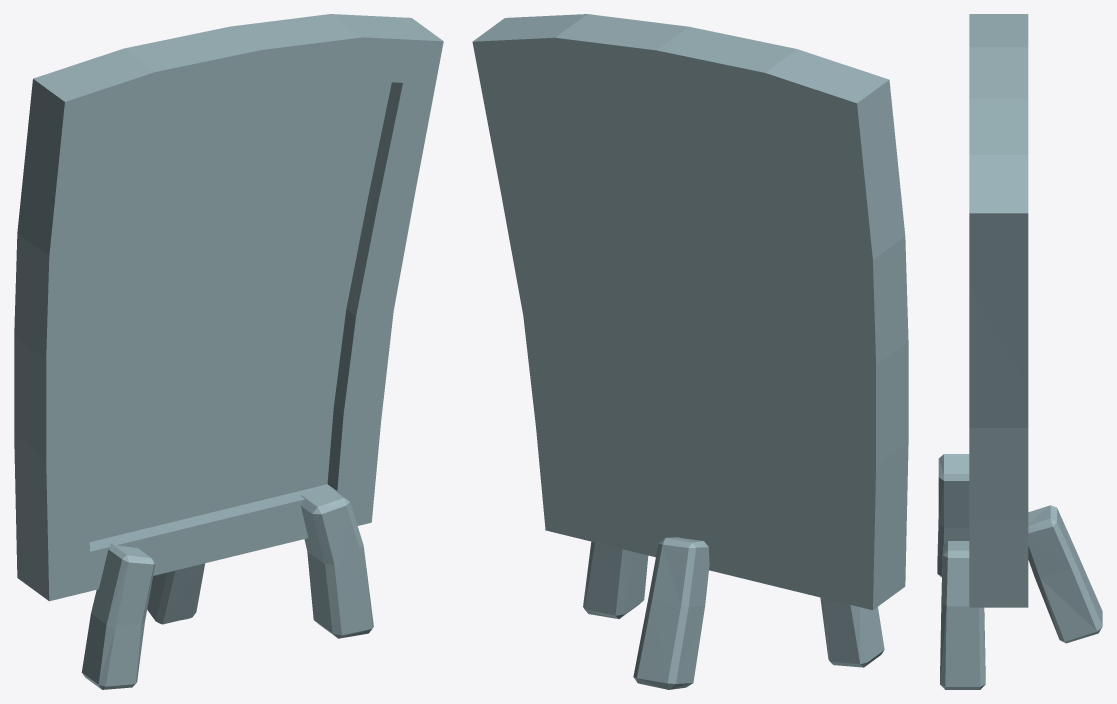
The model's file is Frame01.fbx.
3 renders of one model, left to right at view 1: azimuth 30°, elevation 25°; view 2: azimuth 150°, elevation 25°; view 3: azimuth 270°, elevation 25°, orthographic. The views are drawn at different scales.
Visible parts, largest first — view 1: Cube.014_0; view 2: Cube.014_0; view 3: Cube.014_0.
Boxes of the visible parts, box(x1,y1,x2,y2) form: Cube.014_0: box(14, 14, 443, 689); Cube.014_0: box(472, 14, 908, 689); Cube.014_0: box(937, 14, 1102, 689).
Size of the model in its own units: 0.3161 by 0.4606 by 0.1235.
